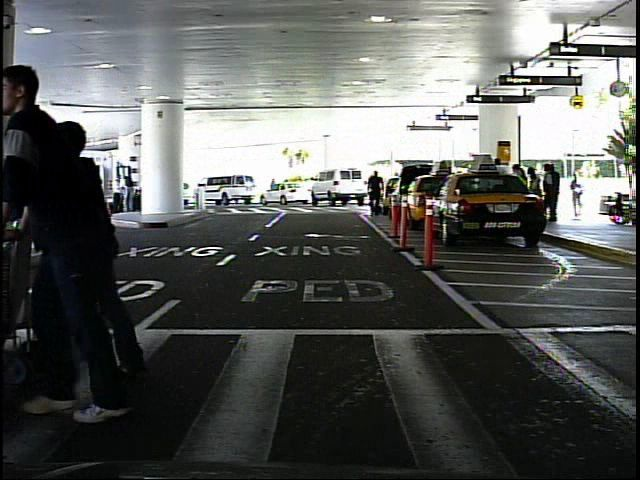person: (7, 52, 125, 431), (366, 168, 388, 218), (571, 172, 590, 218), (108, 175, 127, 213)
